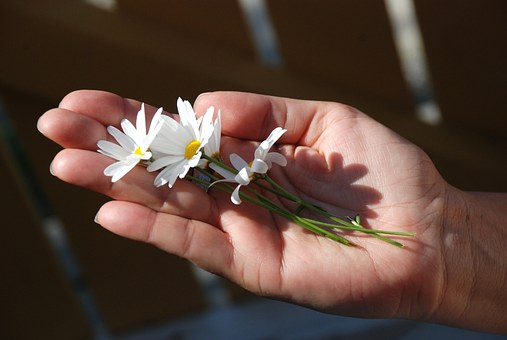palm: (227, 145, 409, 287)
